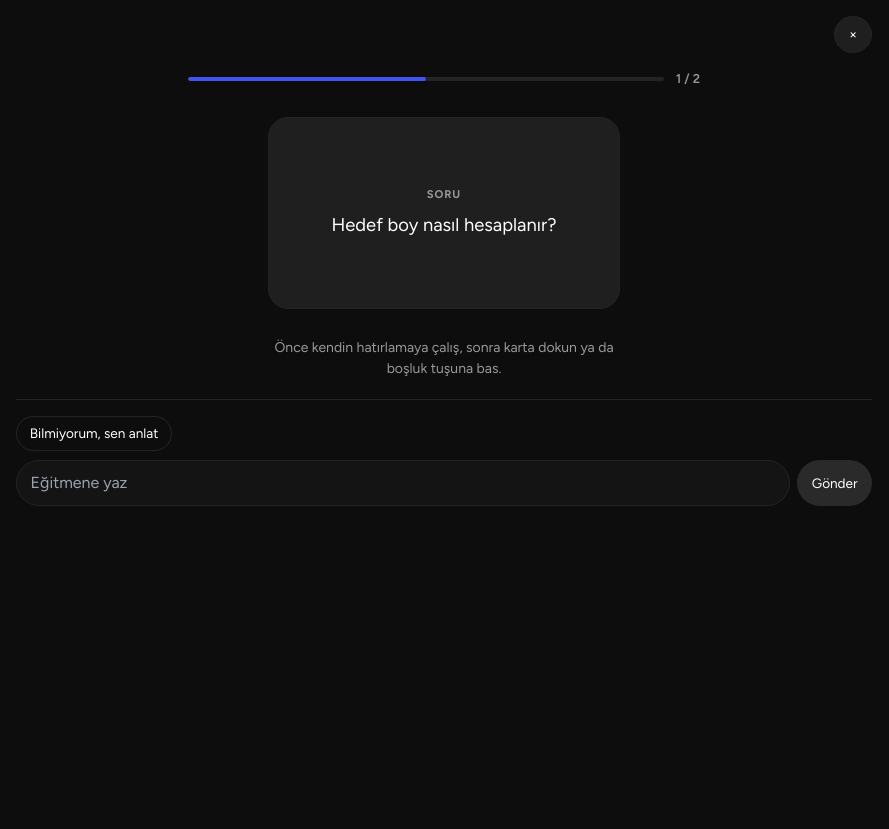
exam-prep flashcards — Astra gibi tekrar turu ve kaynak › hepsi bilinince teklif çıkmaz
The width and height of the screenshot is (889, 829).
Expected: the text "Hedef boy nasıl hesaplanır?" is shown, [332,214,556,236]
Click the button with aria-label "Kartı çevir, cevabı göster" at (444, 213), box [268,117,620,309]
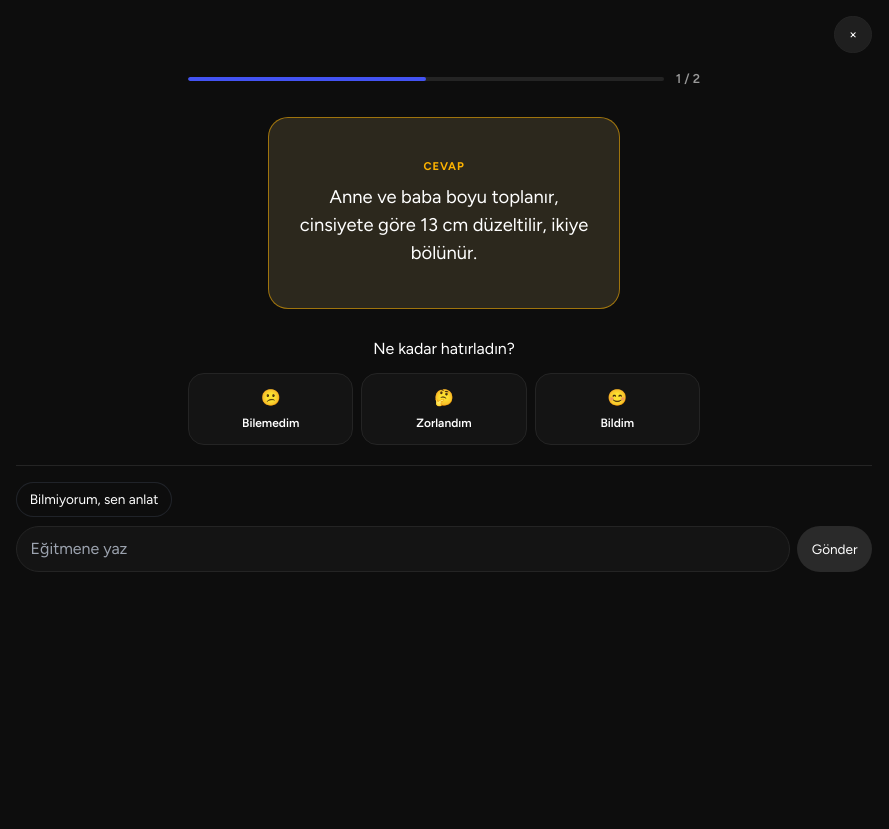
Click the button "😊 Bildim" at (617, 409), box [535,373,700,445]
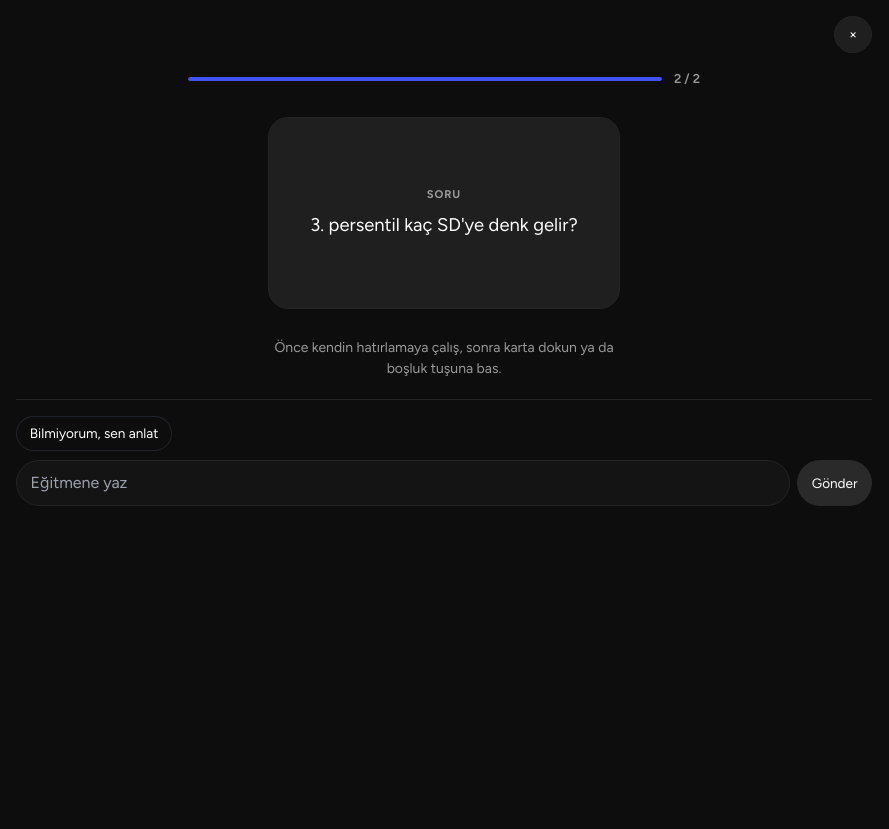
Now the text "3. persentil kaç SD'ye denk gelir?" is shown, box [310,214,578,236]
Click the button with aria-label "Kartı çevir, cevabı göster" at (444, 213), box [268,117,620,309]
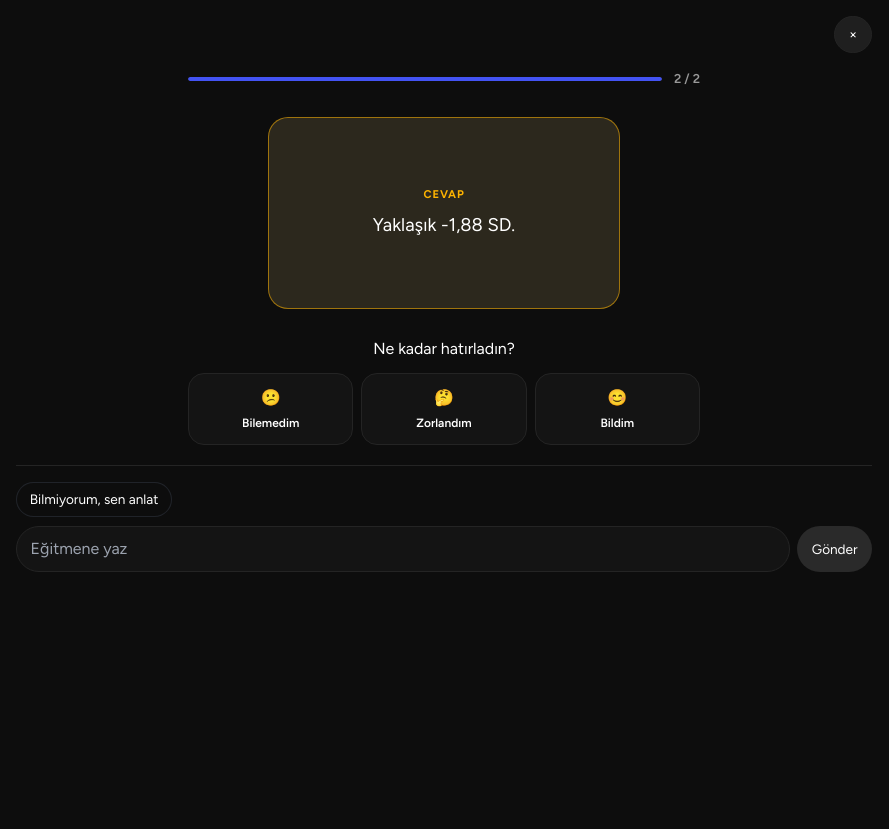
Click the button "😊 Bildim" at (617, 409), box [535,373,700,445]
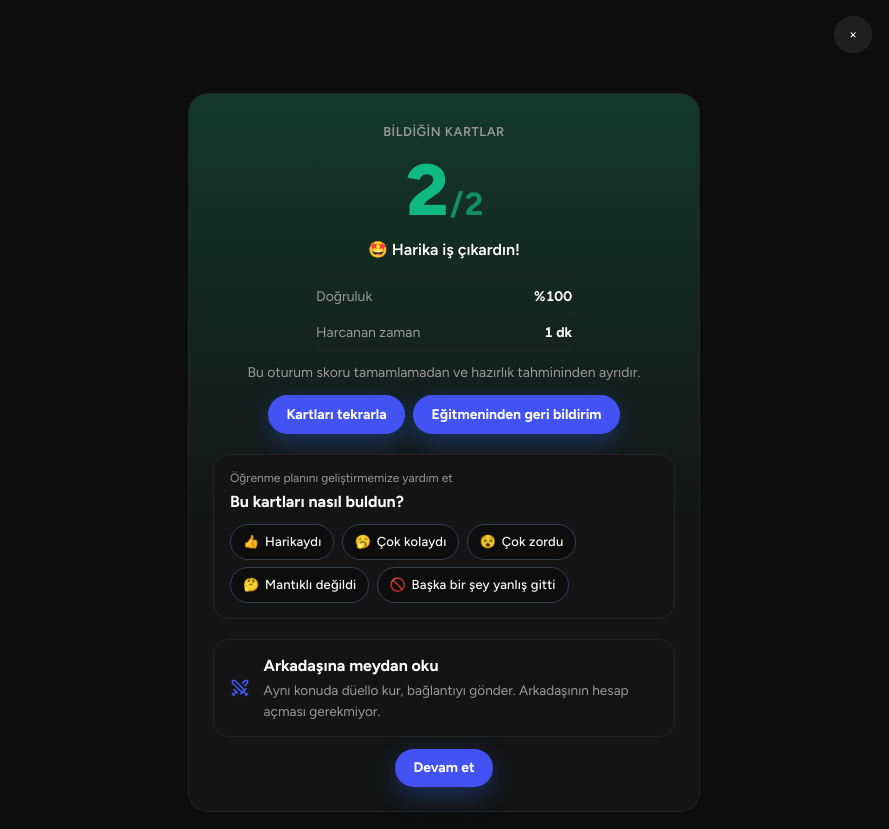
Now the element named "2 karttan 2 biliniyor" is shown, box [404,154,484,226]
